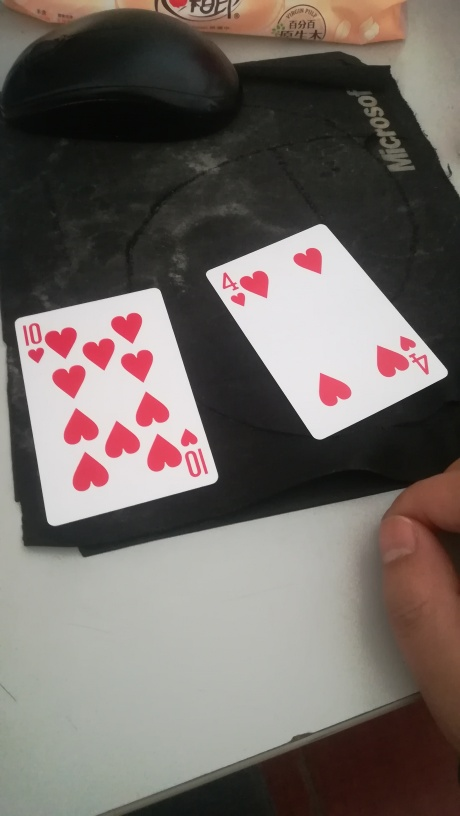hx 10: (8, 284, 219, 523)
hx 4: (202, 212, 456, 468)
